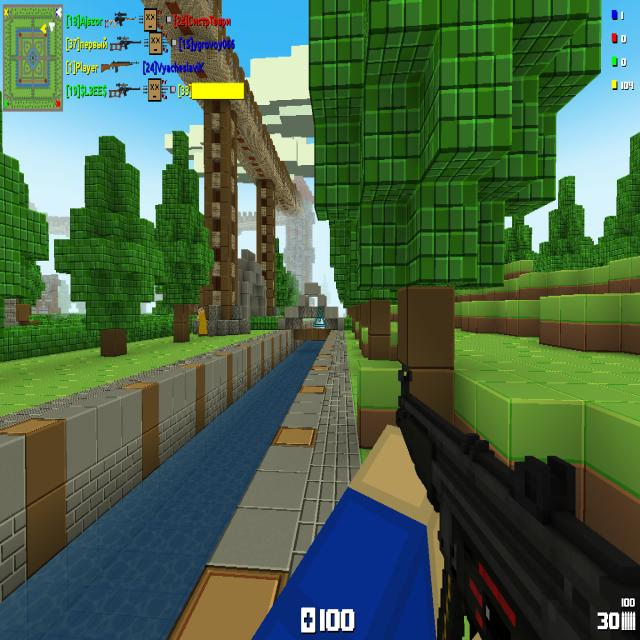enemy: (196, 305, 208, 336)
